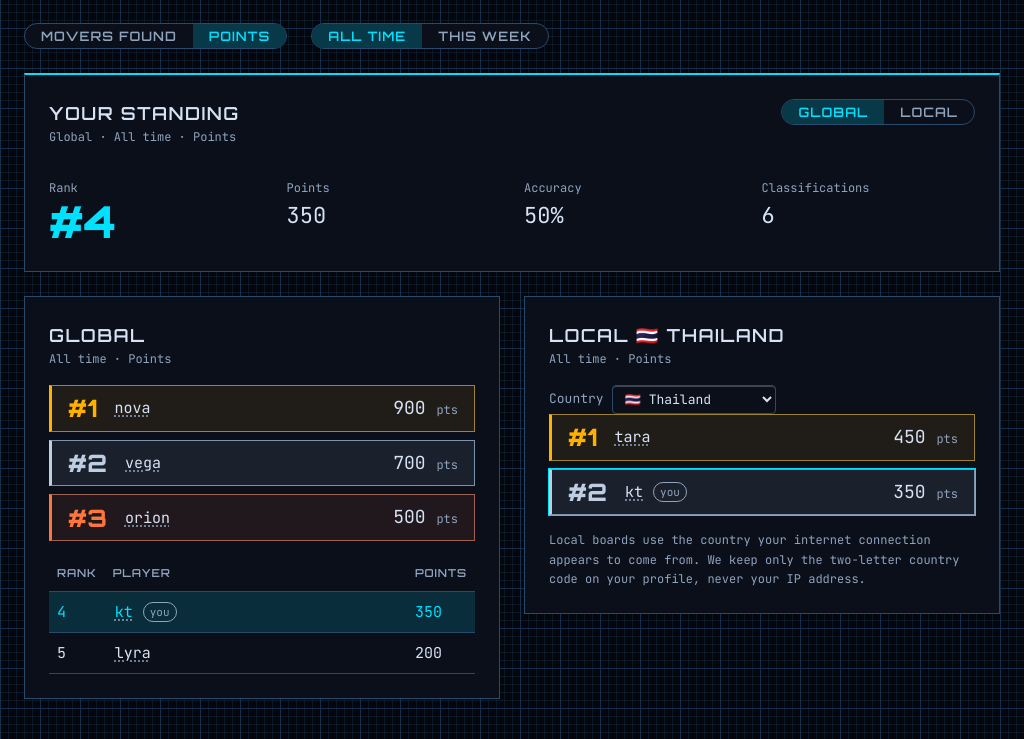
Scenario: LeaderboardScreen player dialog › closes with the Close button and returns focus to the name
(page scrolled)
Step 1. Click the button with aria-label "View stats for lyra" → (133, 653), box [113,641,153,665]
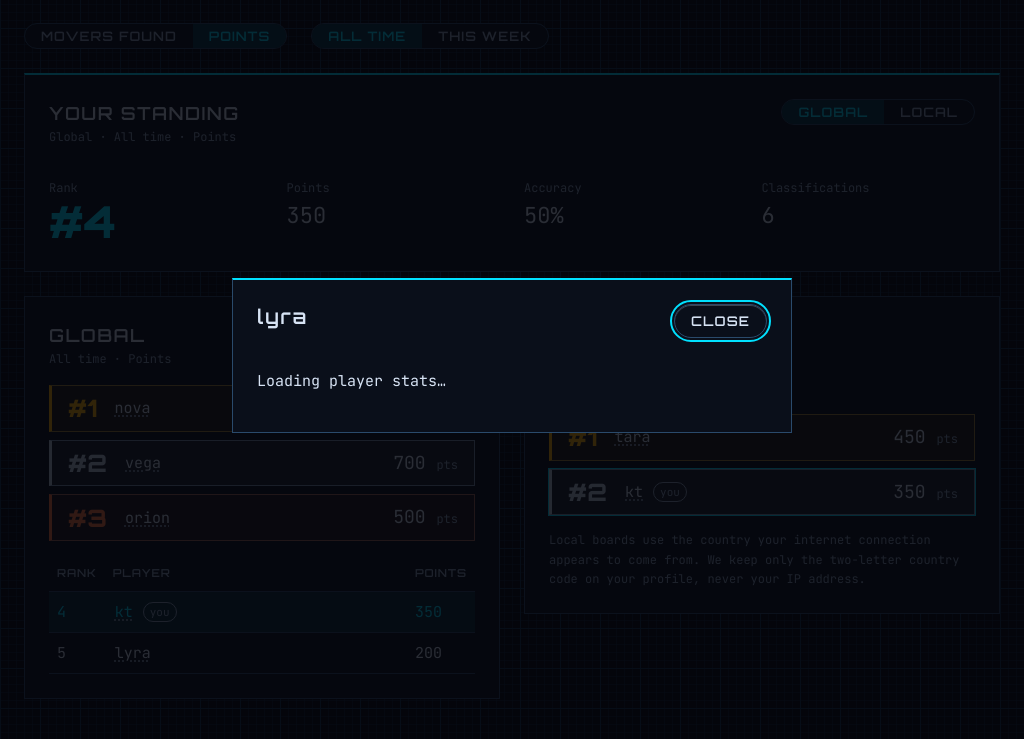
Step 2. Click the button "Close" → (721, 320), box [674,304,767,338]
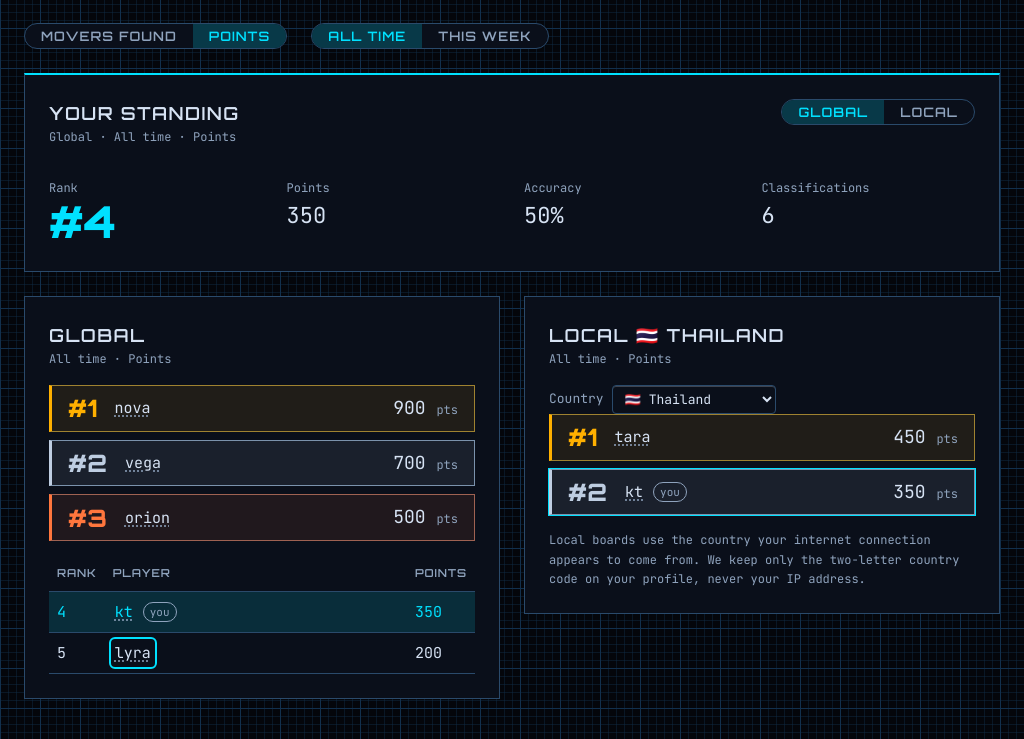
Expected: the dialog is gone
